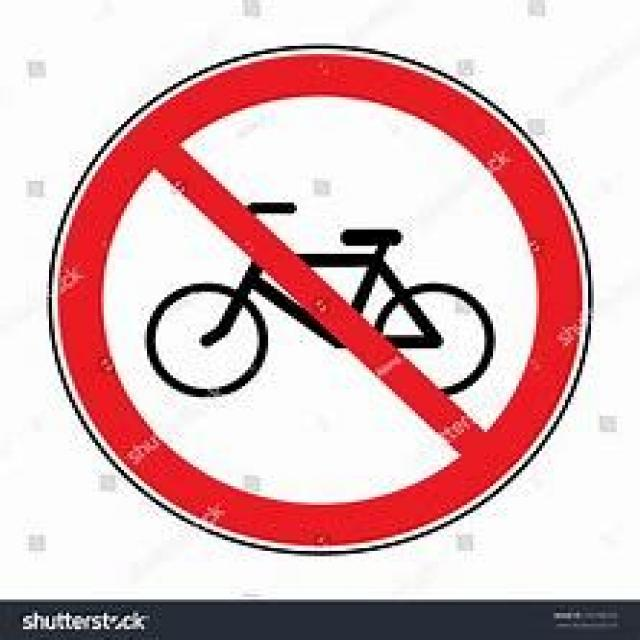CYCLE_PROHIBITED: (49, 41, 591, 556)
